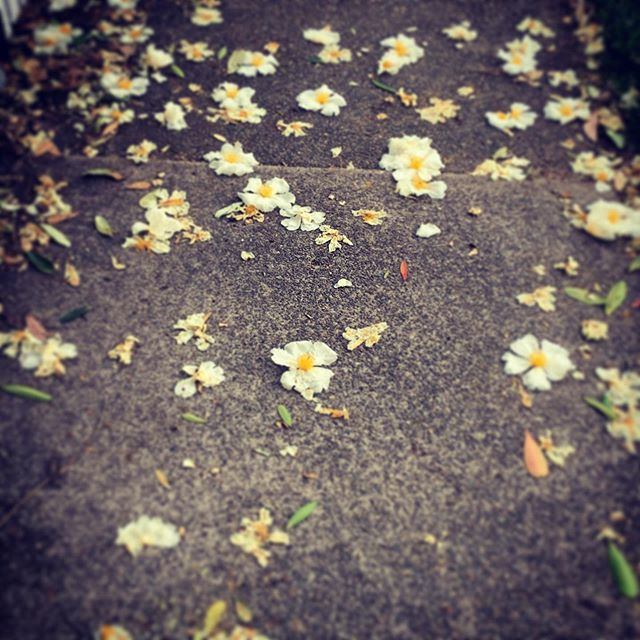flowers: (17, 1, 631, 569)
